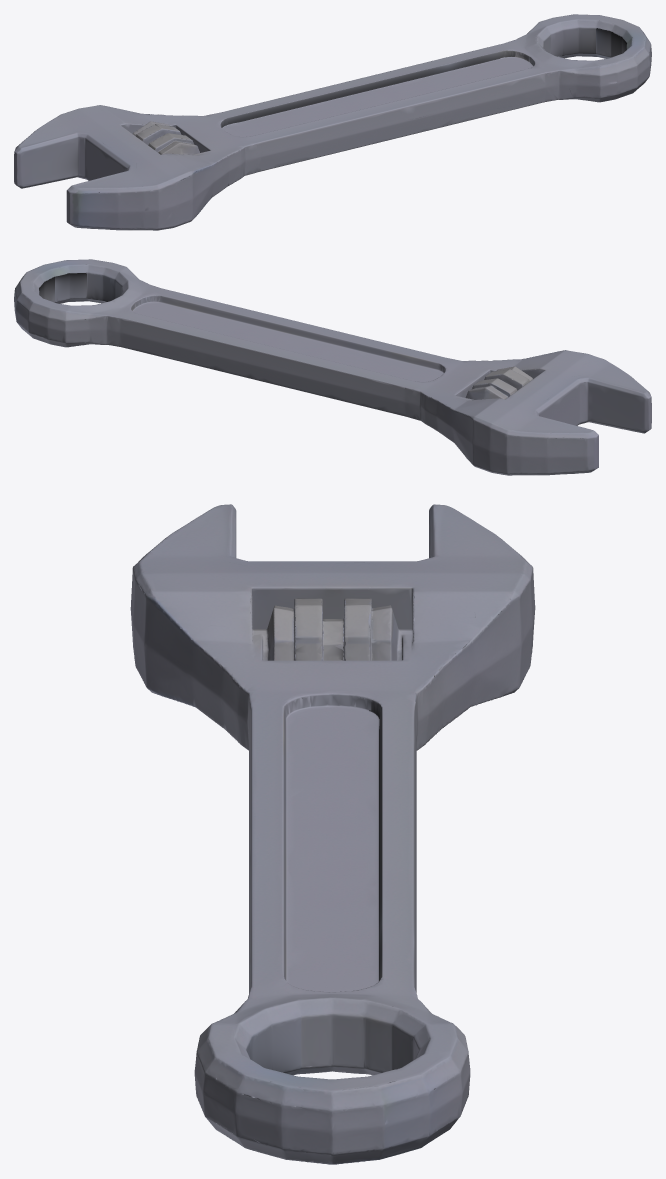
Rendered from Wrench.fbx.
3 renders of one model, top to bottom at view 1: azimuth 30°, elevation 25°; view 2: azimuth 150°, elevation 25°; view 3: azimuth 270°, elevation 25°, orthographic. The views are drawn at different scales.
Visible parts, largest first — view 1: texture_pbr_v128; view 2: texture_pbr_v128; view 3: texture_pbr_v128.
Boxes of the visible parts, x1,y1,x2,y2 form: texture_pbr_v128: (14, 14, 651, 230); texture_pbr_v128: (14, 259, 651, 475); texture_pbr_v128: (130, 504, 535, 1164).
Bounding box in the file's own units: 118 × 10.2 × 34.39.
Materials: 1 (1 with a texture image).
